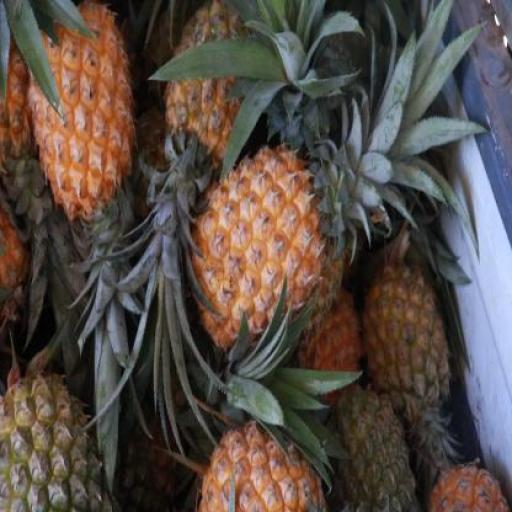------------------------------: (365, 247, 453, 420), (0, 378, 112, 512)
Pineapple - v8 v1: (184, 146, 333, 356), (22, 2, 134, 228), (196, 421, 322, 511)
